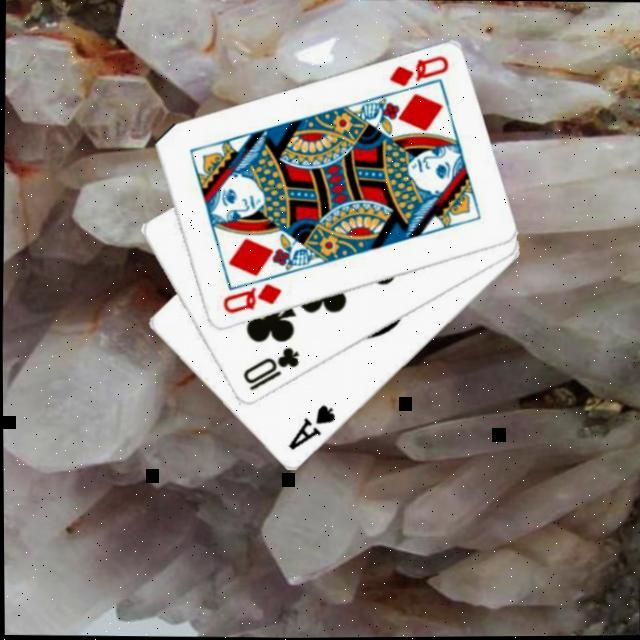10C: (236, 344, 300, 396)
AS: (283, 402, 337, 455)
QD: (384, 53, 451, 91), (217, 280, 283, 318)
